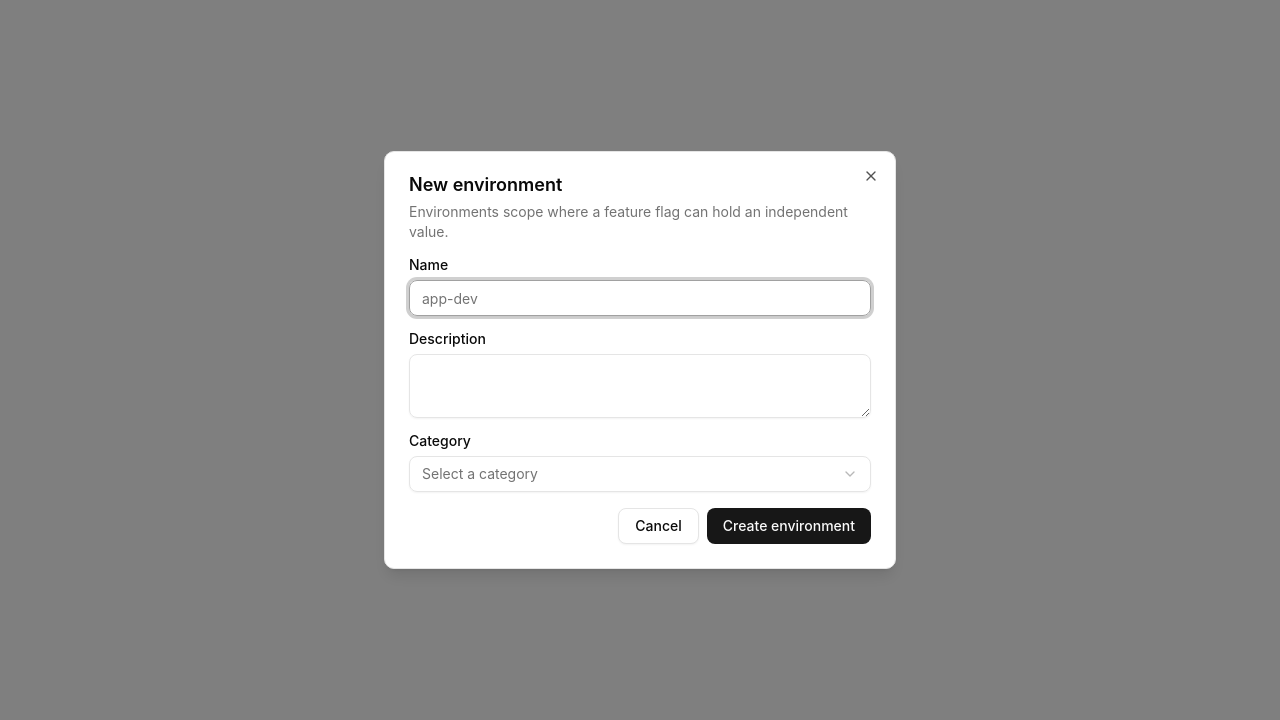
Test case: EnvironmentForm › mounts open and resolves normally while the categories query is still pending
This screenshot has width=1280, height=720.
Expected: the dialog is shown, [384, 151, 896, 569]
Click the dropdown labelled "Select a category".
click(480, 474)  # box [409, 456, 871, 492]
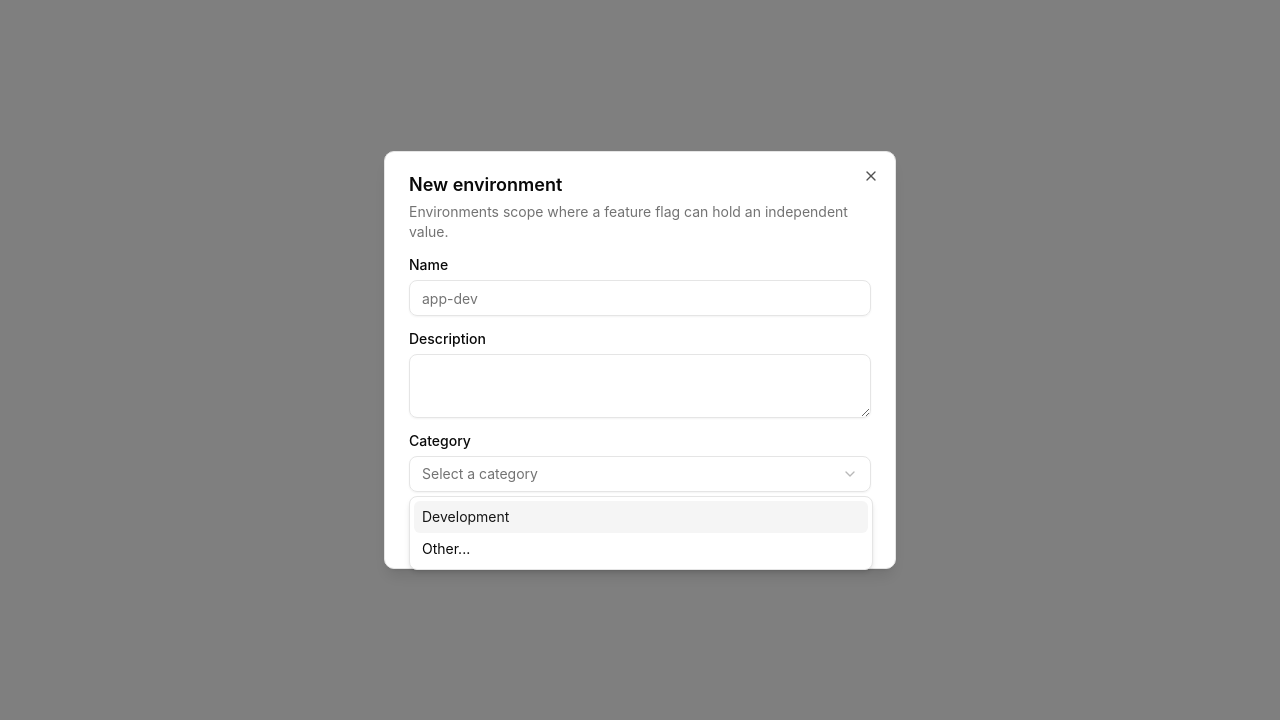
Expected: the option "Development" is shown, [414, 501, 868, 533]
